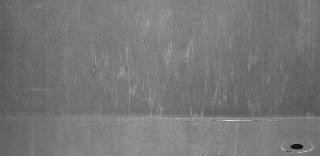punching hole: (288, 143, 304, 151)
welding line: (3, 111, 317, 125)
